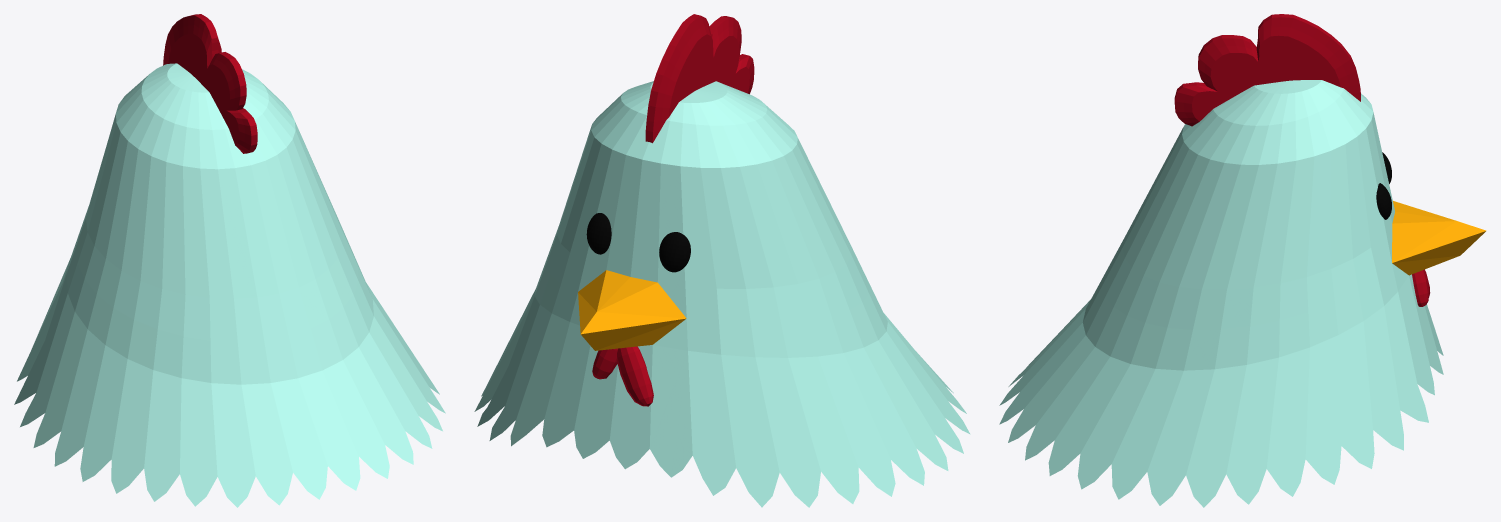
Rendered from chicken_head.glb.
The picture shows the model from 3 angles, left to right: view 1: azimuth 30°, elevation 25°; view 2: azimuth 150°, elevation 25°; view 3: azimuth 270°, elevation 25°; orthographic projection. The views are drawn at different scales.
Parts seen in each view (by area): view 1: head.001; view 2: head.001; view 3: head.001.
Boxes of the visible parts, x1,y1,x2,y2 form: head.001: (14, 14, 445, 507); head.001: (474, 14, 970, 507); head.001: (999, 14, 1486, 507).
Size of the model in its own units: 0.0801 by 0.078 by 0.0863.
